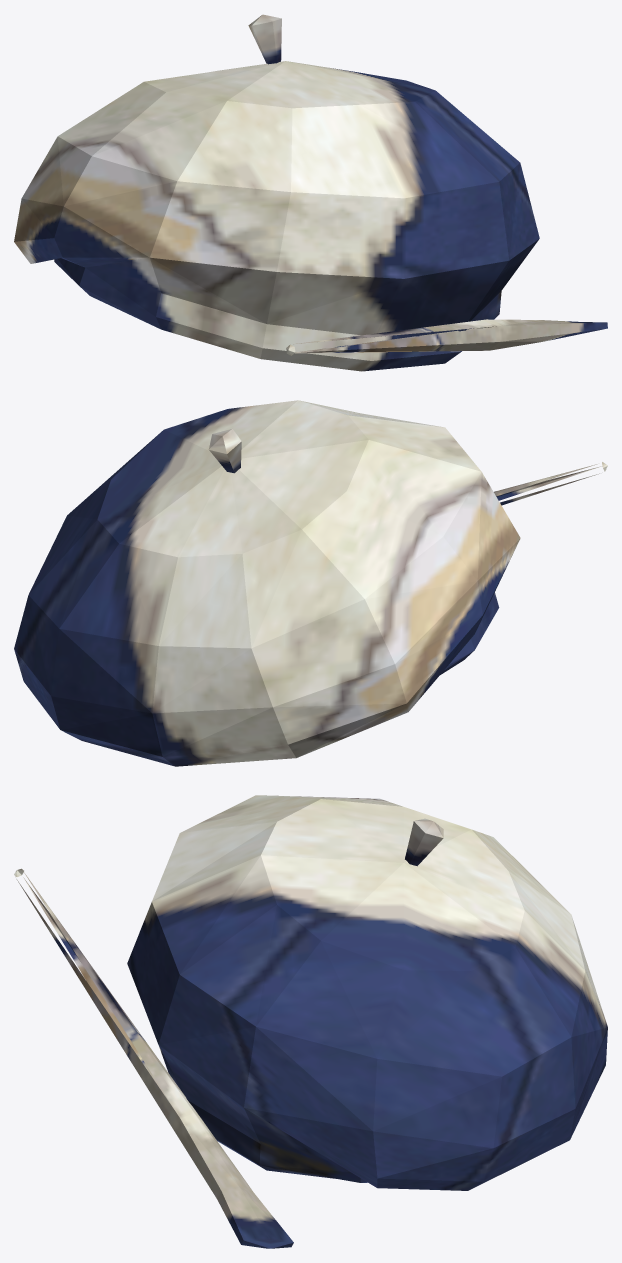
The model's file is Penguin_artistHat.obj.
3 renders of one model, top to bottom at view 1: azimuth 30°, elevation 25°; view 2: azimuth 150°, elevation 25°; view 3: azimuth 270°, elevation 25°, orthographic.
Parts seen in each view (by area): view 1: Penguin_artistHat_tri; view 2: Penguin_artistHat_tri; view 3: Penguin_artistHat_tri.
Part boxes in pixels (x1=…): Penguin_artistHat_tri: x1=14, y1=14, x2=607, y2=371; Penguin_artistHat_tri: x1=14, y1=400, x2=607, y2=766; Penguin_artistHat_tri: x1=14, y1=795, x2=607, y2=1248.
Bounding box in the file's own units: 0.4978 × 0.3138 × 0.5289.
Materials: 1 (1 with a texture image).
